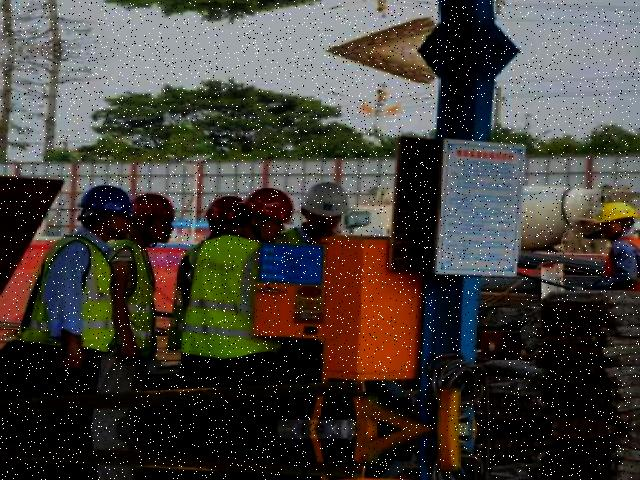Helmet: (72, 180, 130, 226), (295, 178, 354, 223), (240, 183, 294, 229), (590, 196, 638, 231), (122, 187, 175, 218), (201, 190, 241, 227)
